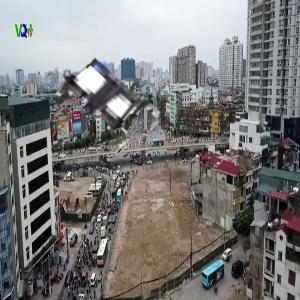drone: (36, 35, 164, 163)
